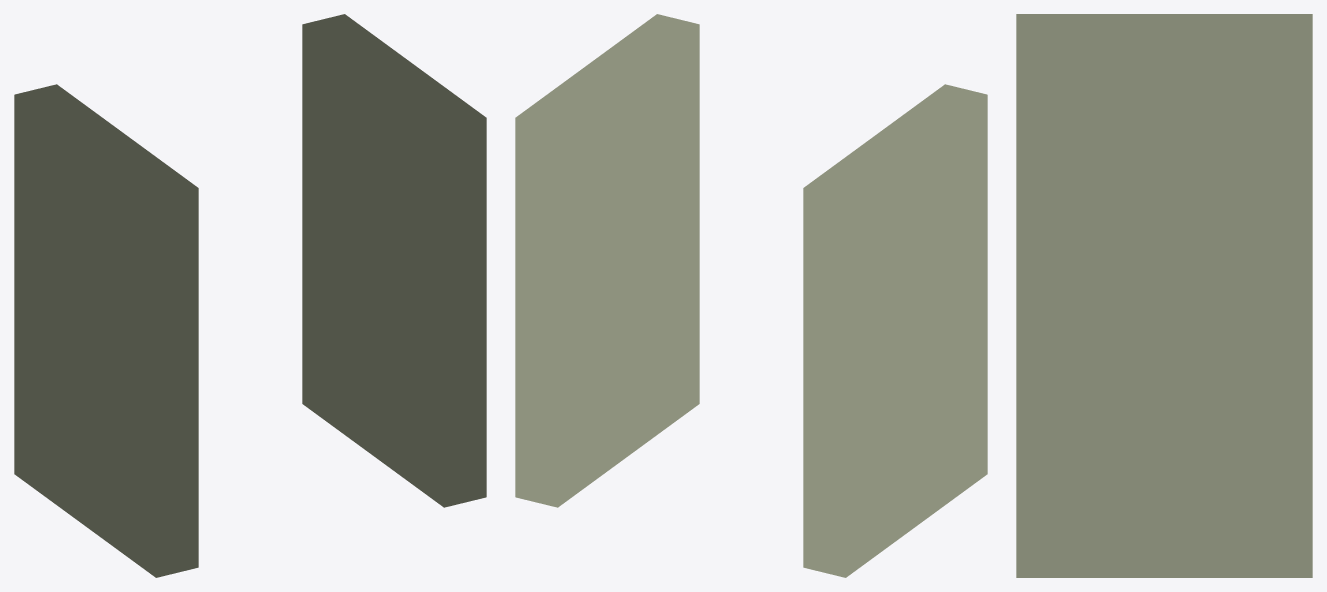
Rendered from vertical_doorway.dae.
3 views of the same model, side by side, from view 1: azimuth 30°, elevation 25°; view 2: azimuth 150°, elevation 25°; view 3: azimuth 270°, elevation 25° (orthographic). The views are drawn at different scales.
Parts seen in each view (by area): view 1: Cube41_copy66-0; view 2: Cube41_copy66-0; view 3: Cube41_copy66-0.
Boxes of the visible parts, <box> form: Cube41_copy66-0: <box>14,14,486,577</box>; Cube41_copy66-0: <box>515,14,987,577</box>; Cube41_copy66-0: <box>1016,14,1312,577</box>.
Size of the model in its own units: 74.93 by 82.16 by 55.72.
